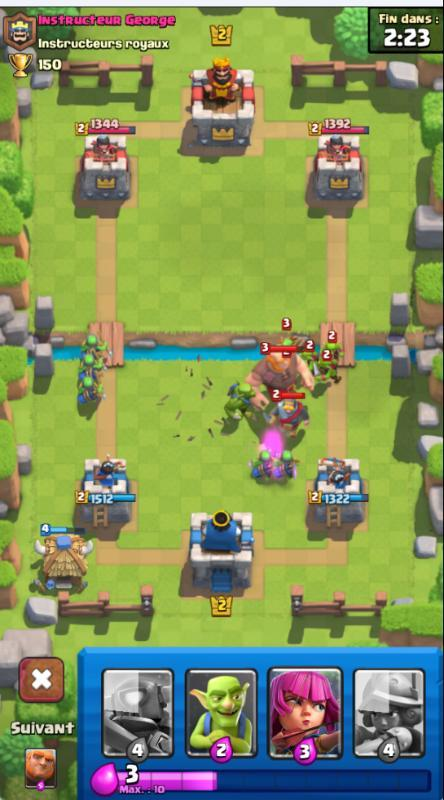enemy_giant: (245, 342, 314, 410)
enemy_knight: (265, 388, 314, 432)
enemy_spear_goblins: (308, 357, 340, 388), (275, 318, 307, 348), (320, 331, 348, 363)
player_caged_goblin: (221, 378, 263, 419)
player_goblin_hut: (28, 523, 95, 598)
player_spear_goblins: (246, 447, 275, 481), (272, 448, 301, 482), (74, 375, 106, 403), (80, 328, 108, 354), (76, 351, 106, 373)
